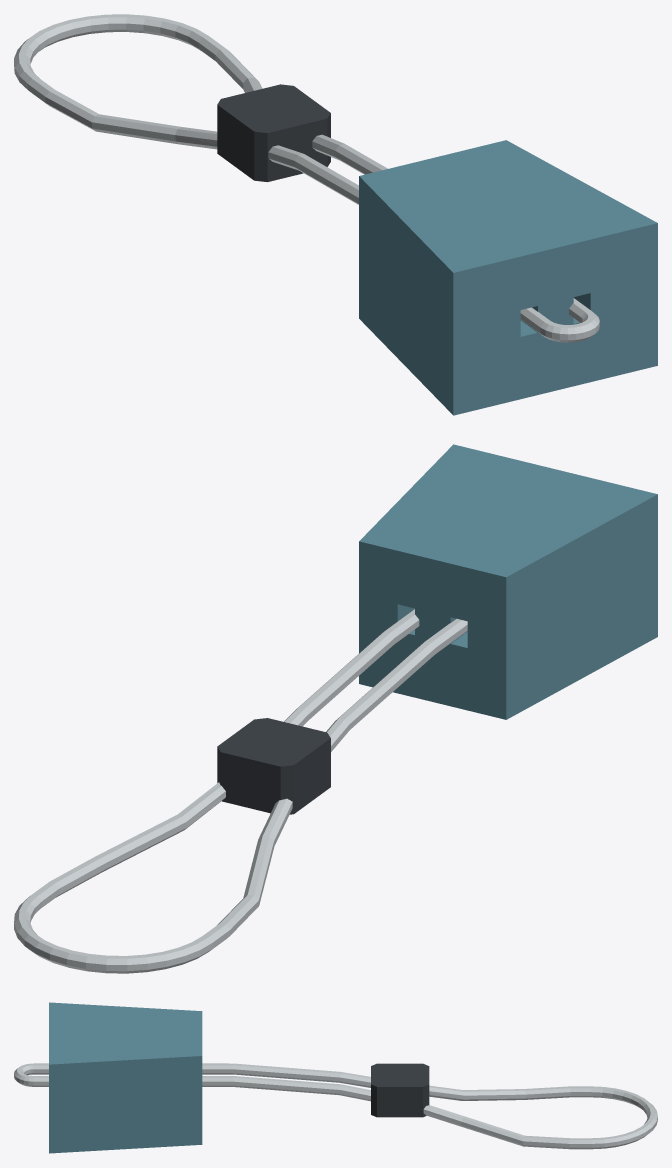
3 renders of one model, top to bottom at view 1: azimuth 30°, elevation 25°; view 2: azimuth 150°, elevation 25°; view 3: azimuth 270°, elevation 25°, orthographic. The views are drawn at different scales.
Visible parts, largest first — view 1: WholeTaperedTwoBoreWedge, WholeContinuousClosedWireLoop, WholeShortStrandSleeve; view 2: WholeTaperedTwoBoreWedge, WholeContinuousClosedWireLoop, WholeShortStrandSleeve; view 3: WholeTaperedTwoBoreWedge, WholeContinuousClosedWireLoop, WholeShortStrandSleeve.
Boxes of the visible parts, <box> form: WholeTaperedTwoBoreWedge: <box>359,140,657,415</box>; WholeContinuousClosedWireLoop: <box>14,14,599,342</box>; WholeShortStrandSleeve: <box>217,84,330,182</box>; WholeTaperedTwoBoreWedge: <box>359,444,657,719</box>; WholeContinuousClosedWireLoop: <box>14,609,467,973</box>; WholeShortStrandSleeve: <box>217,718,330,814</box>; WholeTaperedTwoBoreWedge: <box>49,1002,202,1153</box>; WholeContinuousClosedWireLoop: <box>14,1063,657,1149</box>; WholeShortStrandSleeve: <box>371,1063,429,1117</box>.
Size of the model in its own units: 0.048 by 0.032 by 0.2101.
